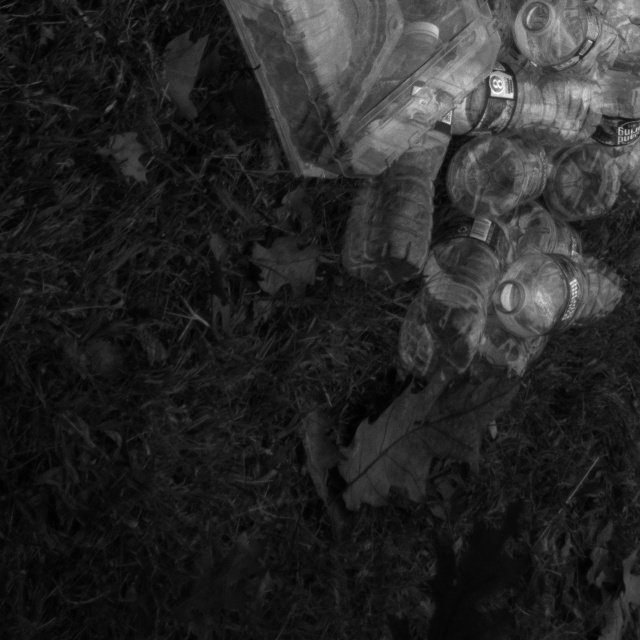bottle: (409, 188, 530, 376), (492, 216, 640, 352), (216, 0, 380, 100), (449, 56, 625, 148), (509, 0, 640, 96)
container: (165, 0, 492, 209)
